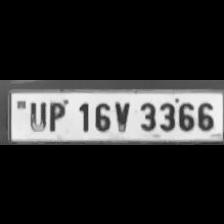1: (70, 98, 90, 132)
3: (135, 97, 157, 130), (156, 97, 176, 130)
6: (90, 99, 112, 131), (194, 98, 216, 130), (176, 99, 194, 131)
P: (44, 97, 68, 130)
U: (24, 98, 46, 130)
V: (111, 98, 133, 132)
